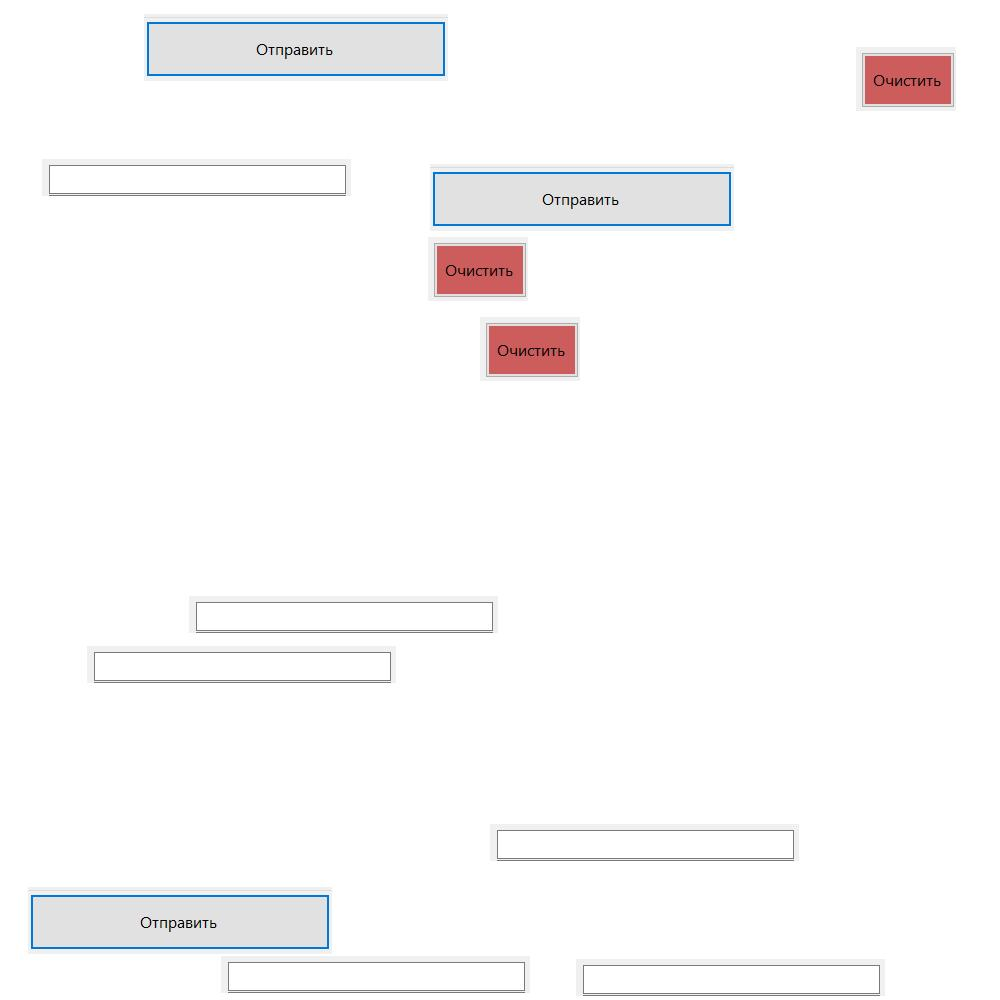Button: (144, 14, 448, 81), (430, 164, 734, 231), (28, 887, 332, 954), (856, 47, 956, 111), (428, 237, 528, 301), (480, 317, 580, 381)
EditText-: (189, 596, 498, 633), (221, 956, 530, 993), (490, 824, 799, 861), (576, 959, 885, 996), (87, 646, 396, 683), (42, 159, 351, 196)
